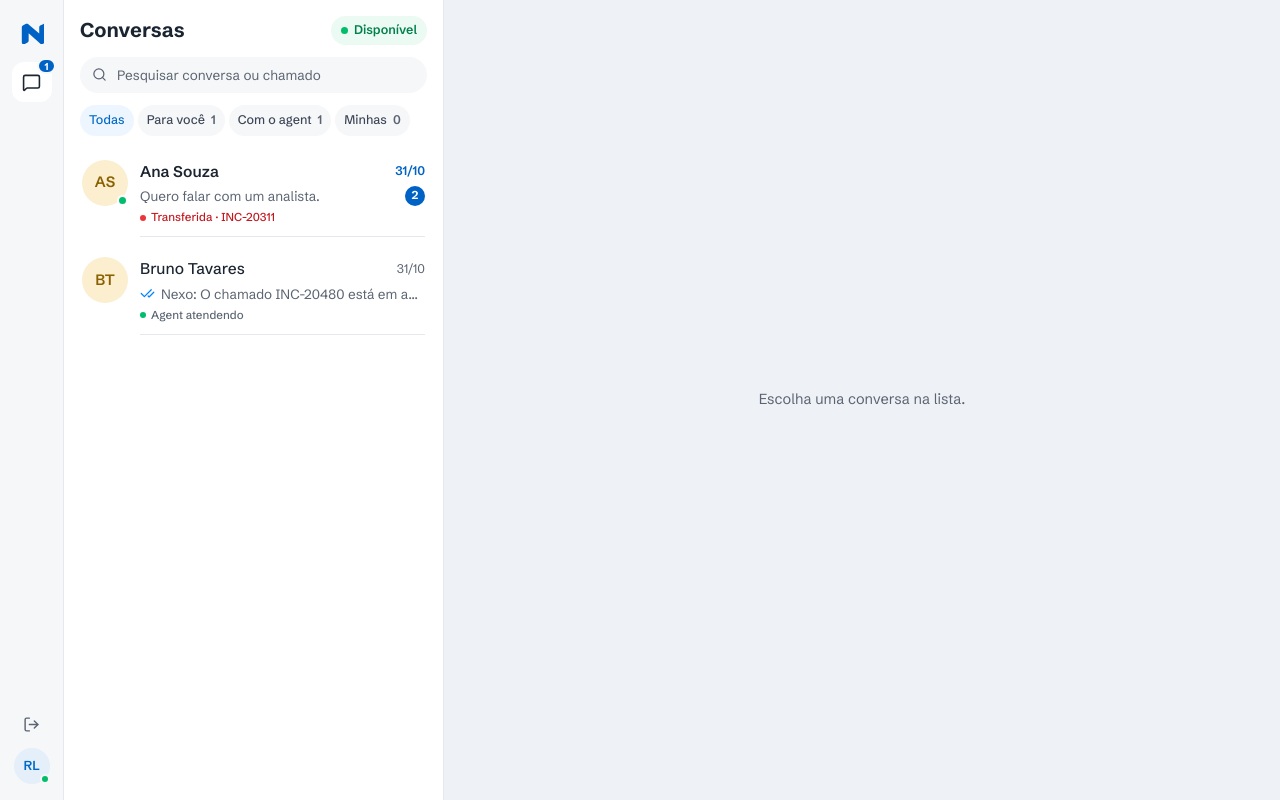
Test case: console do analista (tela 4) › RF19: o analista vê os cards que o funcionário viu, só como registro
This screenshot has width=1280, height=800.
Click the button "Ana Souza": [254, 198] box [72,150,435,247]
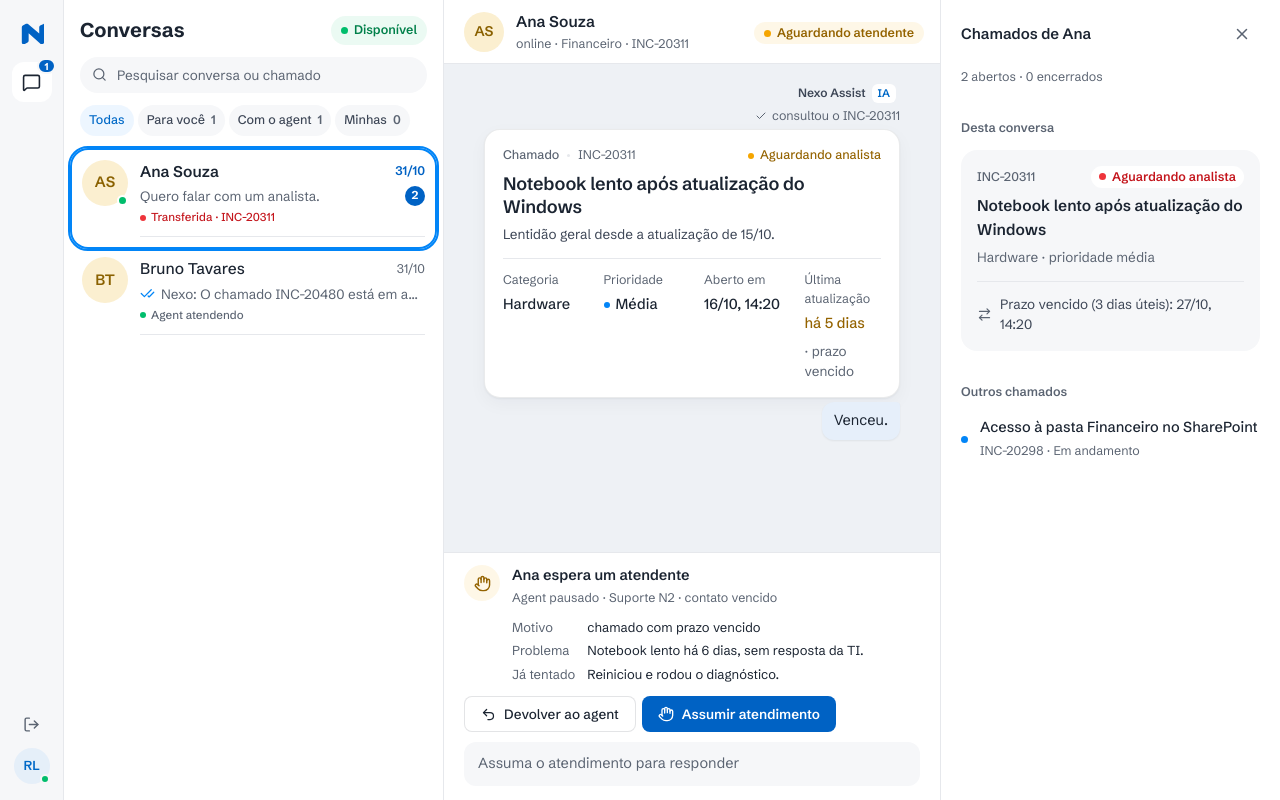
Expected: the element "Chamado INC-20311" is shown, [485,130,899,397]
